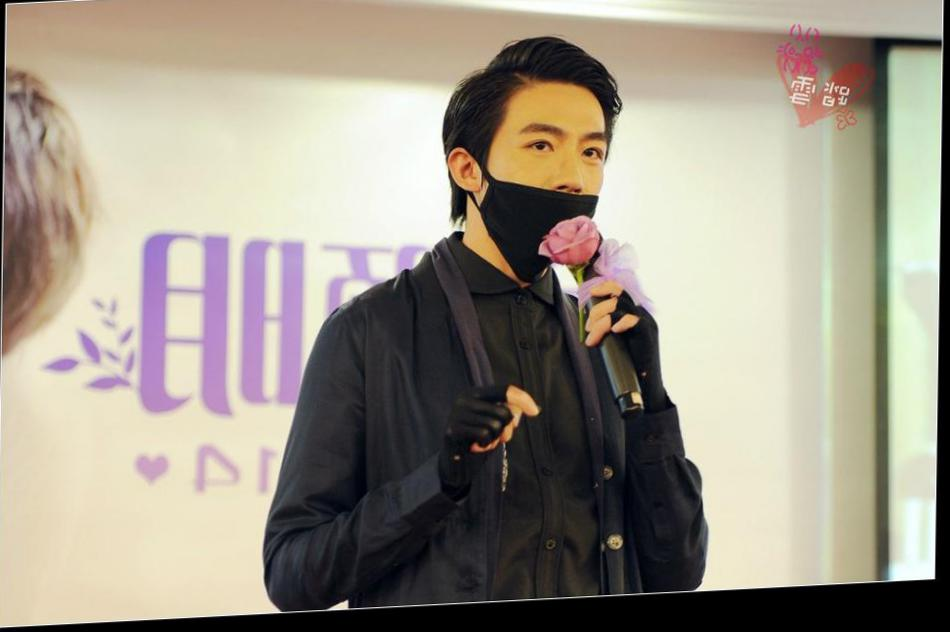WRONG: (477, 111, 609, 278)
